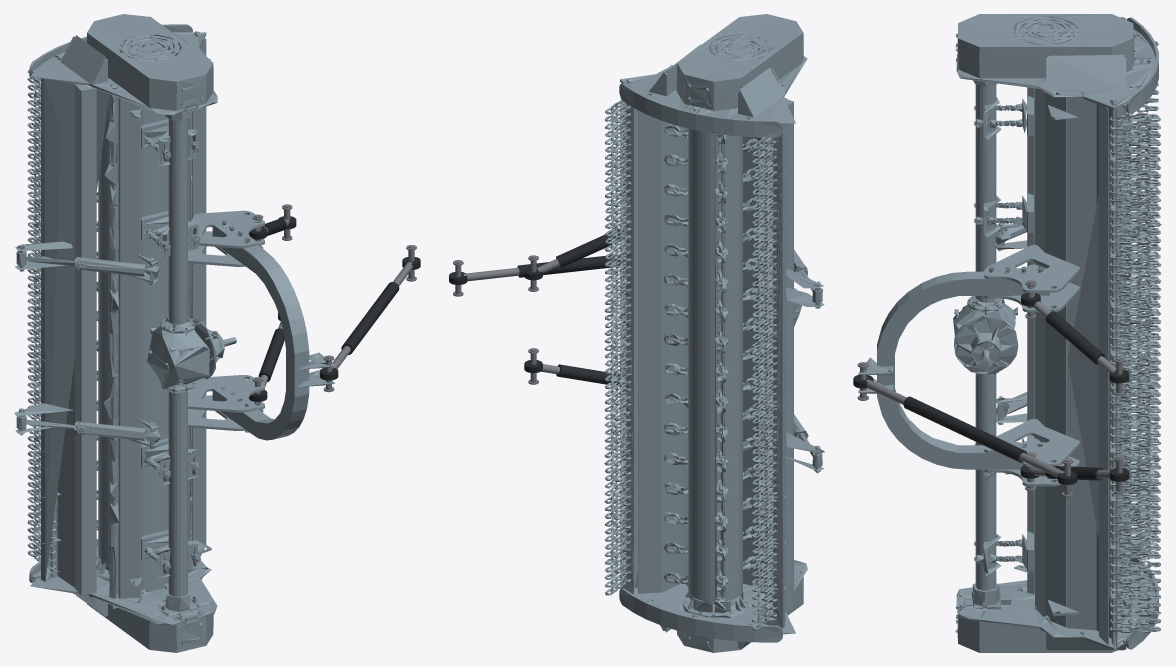
File: implement_forest_chain_crusher_visual.obj
3 renders of one model, left to right at view 1: azimuth 30°, elevation 25°; view 2: azimuth 150°, elevation 25°; view 3: azimuth 270°, elevation 25°, orthographic. The views are drawn at different scales.
Visible parts, largest first — view 1: solid_1104, solid_51, solid_1116, solid_49, solid_1168, solid_1170, solid_596, solid_203, solid_86, solid_261, solid_24, solid_135 (+16 smaller); view 2: solid_50, solid_558, solid_596, solid_1168, solid_1104, solid_49, solid_48, solid_1116, solid_132, solid_134, solid_0, solid_24 (+8 smaller); view 3: solid_49, solid_50, solid_1168, solid_1170, solid_48, solid_86, solid_261, solid_203, solid_24, solid_136, solid_18, solid_1169 (+17 smaller).
Boxes of the visible parts, box(x1,y1,x2,y2) form: solid_1104: box(41, 78, 109, 581); solid_51: box(118, 98, 140, 598); solid_1116: box(75, 84, 96, 594); solid_49: box(117, 97, 189, 594); solid_1168: box(87, 14, 213, 108); solid_1170: box(212, 227, 309, 440); solid_596: box(98, 97, 110, 563); solid_203: box(168, 118, 187, 324); solid_86: box(192, 38, 206, 544); solid_261: box(168, 391, 187, 596); solid_24: box(30, 544, 217, 624); solid_135: box(147, 326, 209, 389); solid_50: box(638, 110, 682, 593); solid_558: box(688, 128, 715, 601); solid_596: box(724, 135, 742, 601); solid_1168: box(676, 14, 803, 108); solid_1104: box(765, 124, 786, 628); solid_49: box(682, 127, 764, 587); solid_48: box(621, 83, 637, 593); solid_1116: box(784, 98, 793, 610); solid_132: box(619, 83, 782, 137); solid_134: box(619, 588, 782, 642); solid_0: box(620, 46, 807, 124); solid_24: box(620, 560, 807, 634); solid_49: box(1035, 88, 1066, 627); solid_50: box(1066, 97, 1111, 638); solid_1168: box(957, 14, 1133, 75); solid_1170: box(877, 271, 1049, 469); solid_48: box(1067, 108, 1117, 646); solid_86: box(1099, 105, 1108, 645); solid_261: box(975, 373, 996, 590); solid_203: box(975, 84, 996, 302); solid_24: box(957, 580, 1132, 650); solid_136: box(954, 315, 1018, 374); solid_18: box(1048, 54, 1124, 89); solid_1169: box(957, 616, 1117, 652).
Size of the model in its own units: 2.03 by 2.85 by 1.31.
